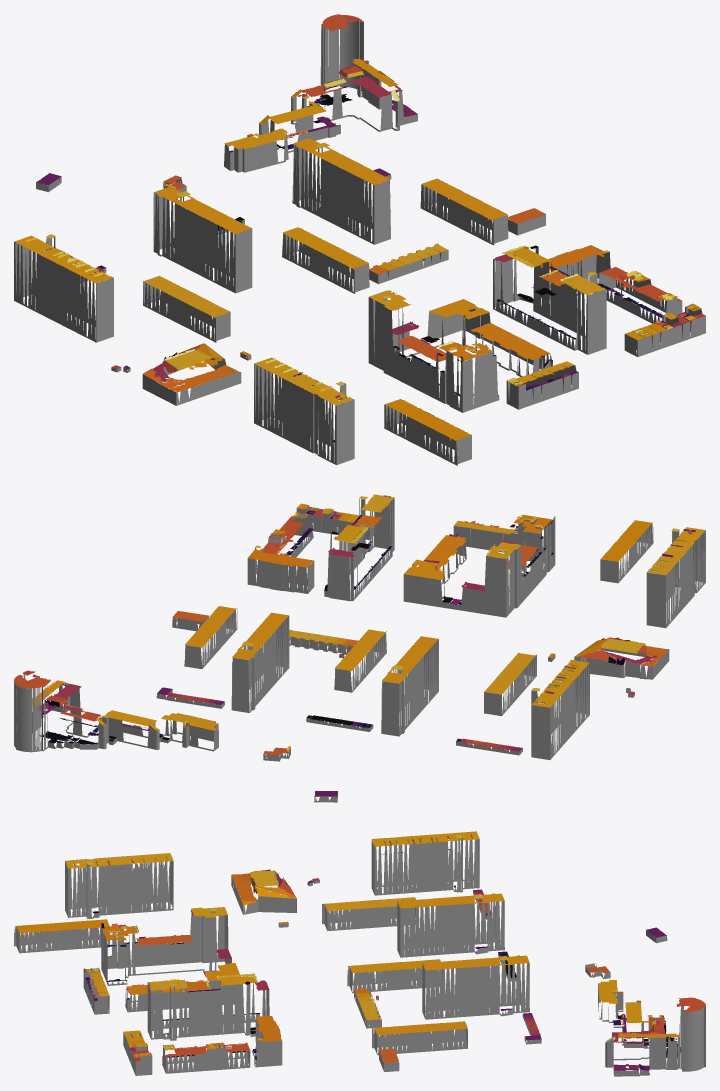
File: voorhof_83000_446000.glb
The picture shows the model from 3 angles, top to bottom: view 1: azimuth 30°, elevation 25°; view 2: azimuth 150°, elevation 25°; view 3: azimuth 270°, elevation 25°; orthographic projection. The views are drawn at different scales.
Bounding box in the file's own units: 299 × 46.02 × 445.
